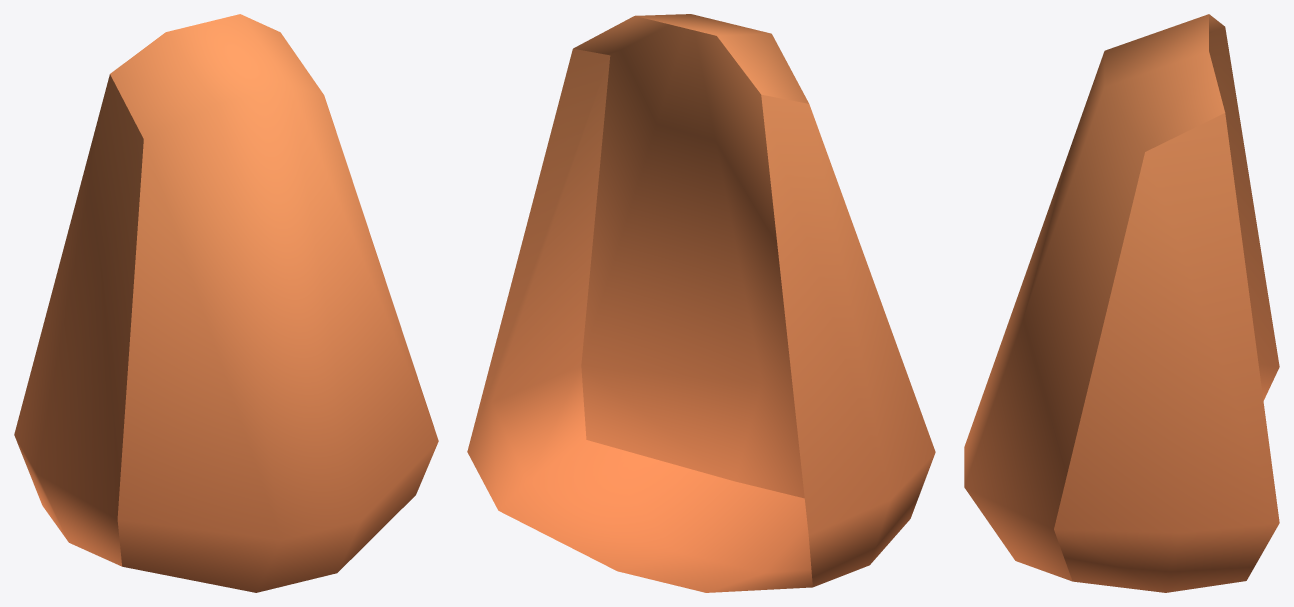
Rendered from Nose_D_01_White.fbx.
The picture shows the model from 3 angles, left to right: view 1: azimuth 30°, elevation 25°; view 2: azimuth 150°, elevation 25°; view 3: azimuth 270°, elevation 25°; orthographic projection. The views are drawn at different scales.
Visible parts, largest first — view 1: Nose_D_01_White; view 2: Nose_D_01_White; view 3: Nose_D_01_White.
Part boxes in pixels (box(x1,y1,x2,y2)): Nose_D_01_White: box(14, 14, 438, 592); Nose_D_01_White: box(467, 14, 935, 592); Nose_D_01_White: box(964, 14, 1279, 592).
Bounding box in the file's own units: 13.59 × 18.54 × 9.94.
